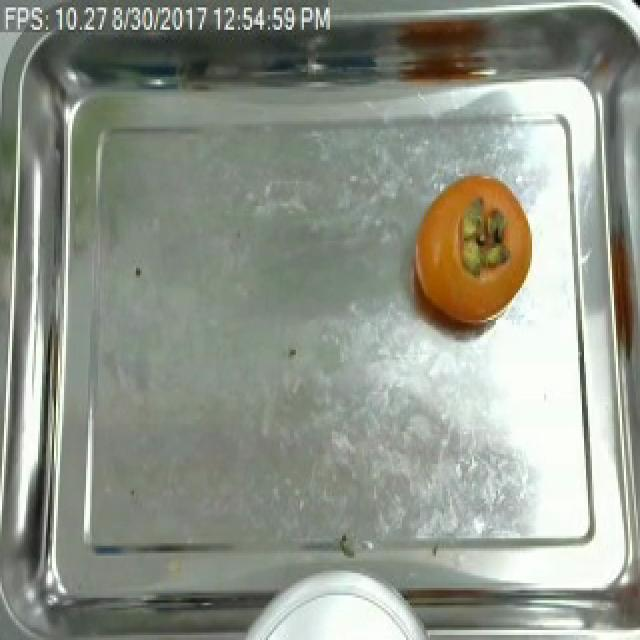Fruit: (412, 166, 540, 330)
